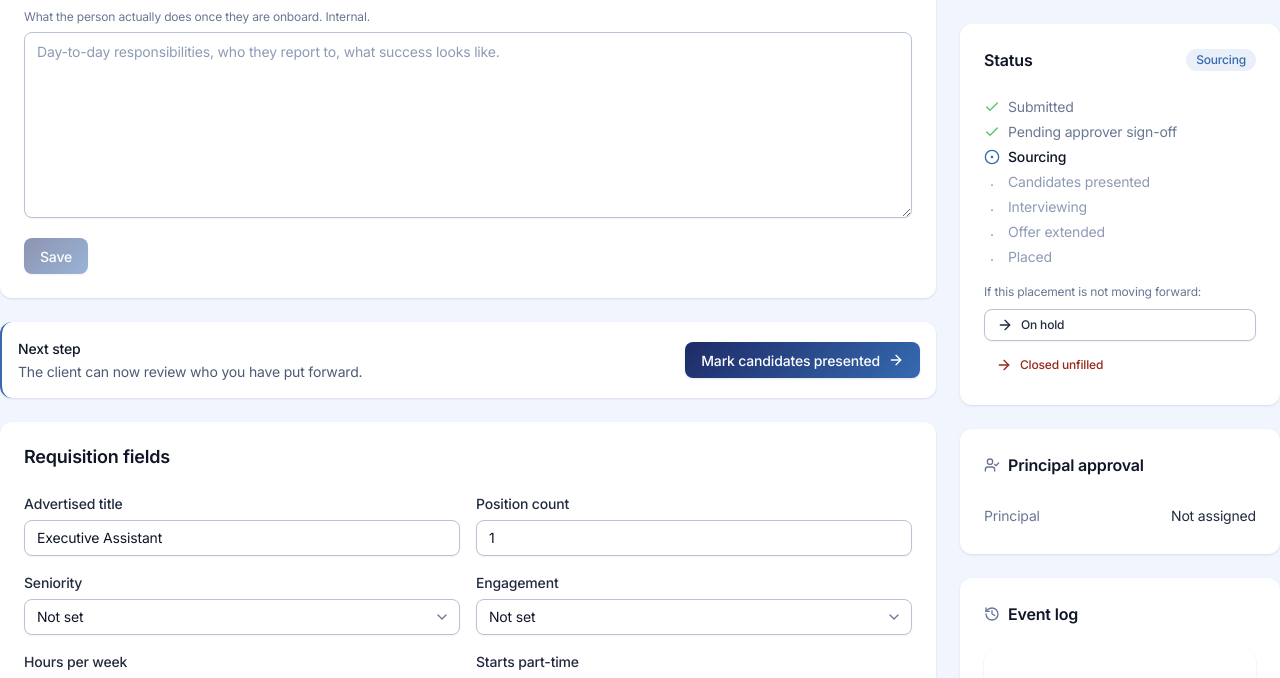
Test case: stage tracker transitions › surfaces a 409 INVALID_TRANSITION with the server's from/to
(page scrolled)
What coordinates should you click on to do the following:
click the button "Mark candidates presented"
I would click on:
 (803, 360)
Its box is [685,342,920,378].
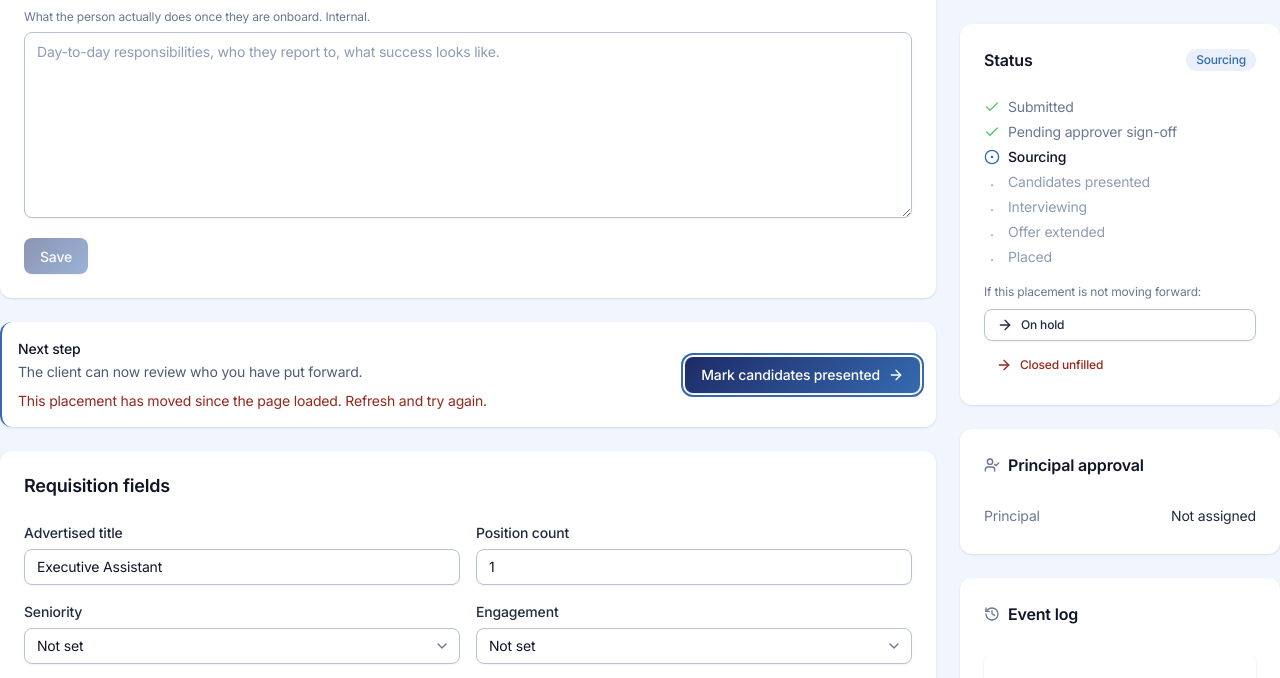
expect the text "This placement has moved since the page loaded. Refresh and try again." is shown: met, box [18,390,487,411]
